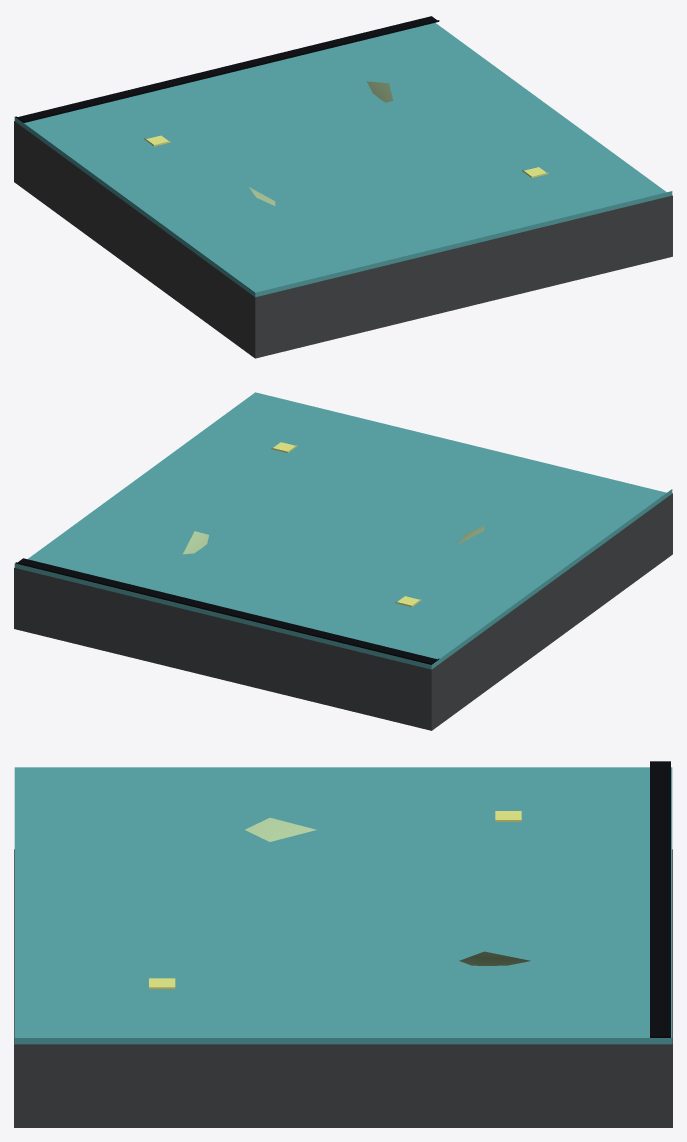
The model's file is tt_climb_mat_300.glb.
The picture shows the model from 3 angles, top to bottom: view 1: azimuth 30°, elevation 25°; view 2: azimuth 150°, elevation 25°; view 3: azimuth 270°, elevation 25°; orthographic projection. The views are drawn at different scales.
Parts seen in each view (by area): view 1: Mat_Cover, Mat_Core, Velcro_Seam_Flap, Leaf_Print; view 2: Mat_Cover, Mat_Core, Velcro_Seam_Flap, Leaf_Print; view 3: Mat_Cover, Mat_Core, Velcro_Seam_Flap, Leaf_Print, Ball_Dots.
Boxes of the visible parts, box(x1,y1,x2,y2) form: Mat_Cover: box(14, 23, 672, 297); Mat_Core: box(14, 121, 672, 358); Velcro_Seam_Flap: box(15, 16, 439, 122); Leaf_Print: box(249, 81, 392, 205); Mat_Cover: box(14, 392, 672, 669); Mat_Core: box(14, 493, 672, 730); Velcro_Seam_Flap: box(15, 558, 439, 664); Leaf_Print: box(183, 525, 484, 554); Mat_Cover: box(14, 767, 672, 1044); Mat_Core: box(14, 849, 672, 1127); Velcro_Seam_Flap: box(650, 761, 670, 1037); Leaf_Print: box(245, 817, 530, 965); Ball_Dots: box(149, 811, 521, 989).
Size of what is drawn, in the model's own units: 2 by 0.3412 by 2.
Materials: 5 (1 with a texture image).
